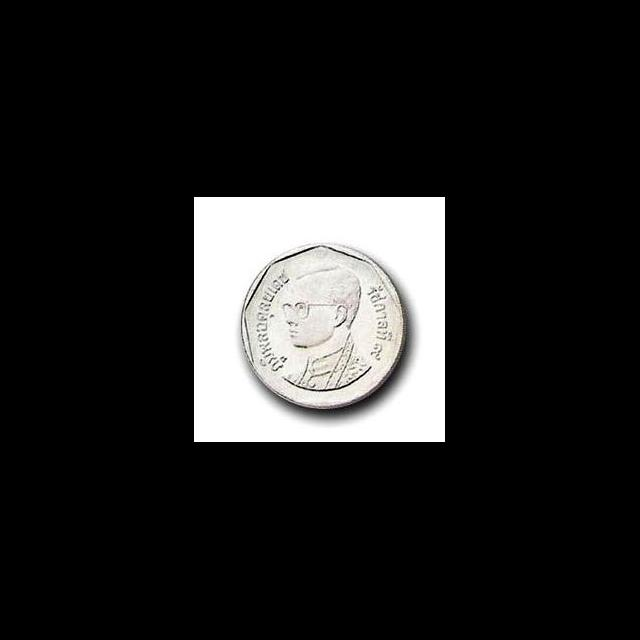5-baht: (230, 236, 414, 418)
